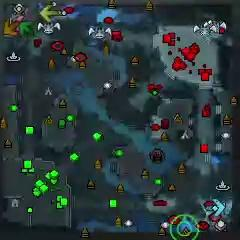x1: (13, 16, 24, 30)
x2: (40, 4, 60, 22)
x3: (206, 198, 224, 216)
x4: (19, 21, 34, 37)
x5: (4, 18, 19, 35)
